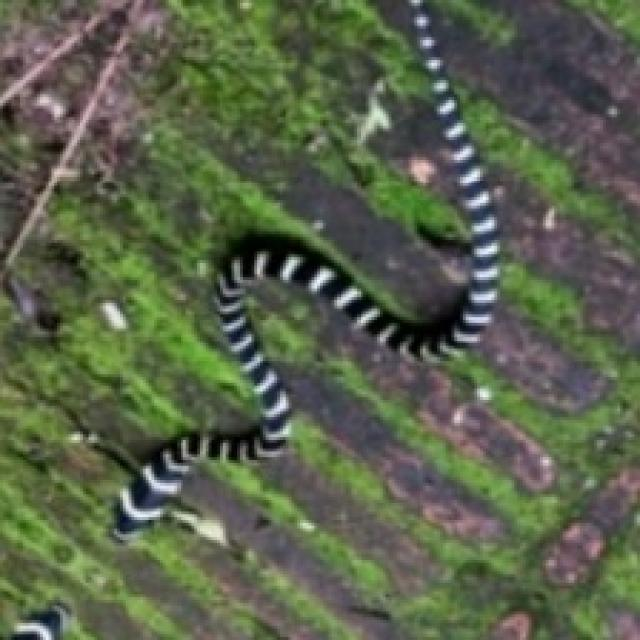king cobra: (114, 0, 497, 537)
